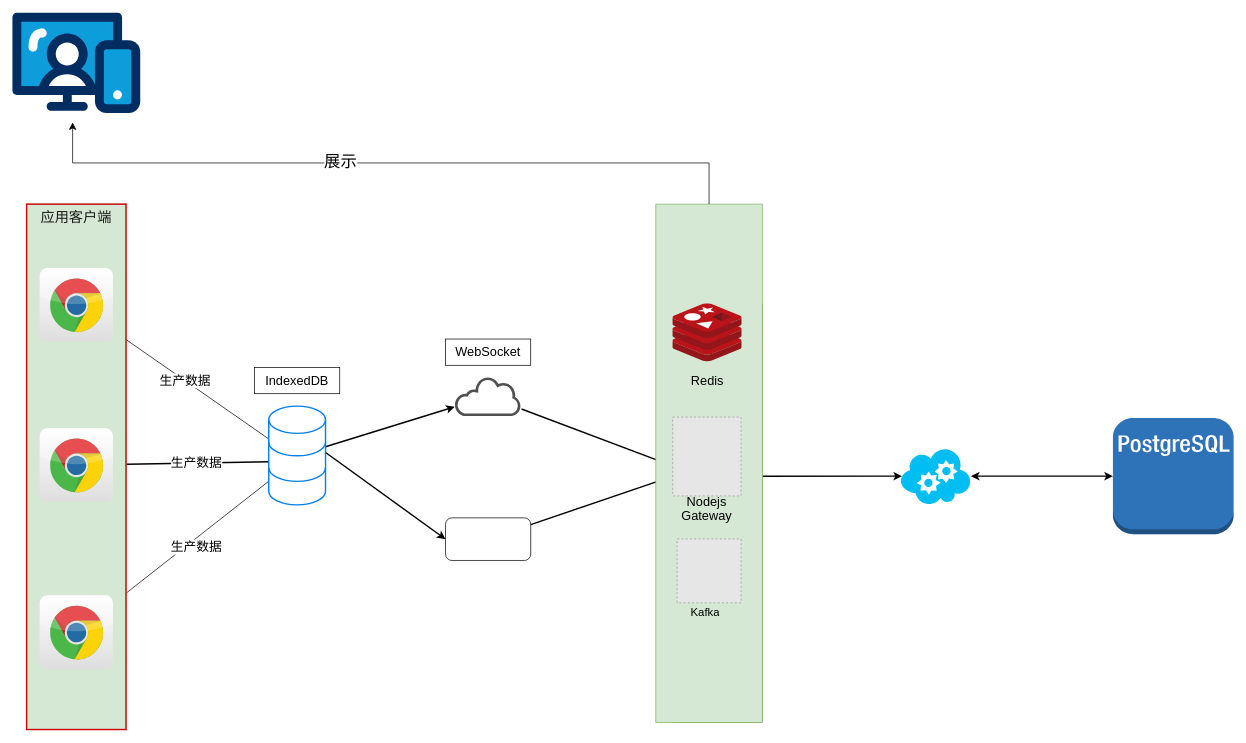
Some shapes in this 1246 by 743 pixel diagram are drawn without their labels. Grey dashed boxes stand in for pictures. Each missing label, with the centre of its shape:
HTTP Report: [488,538]
后端服务: [935,476]
